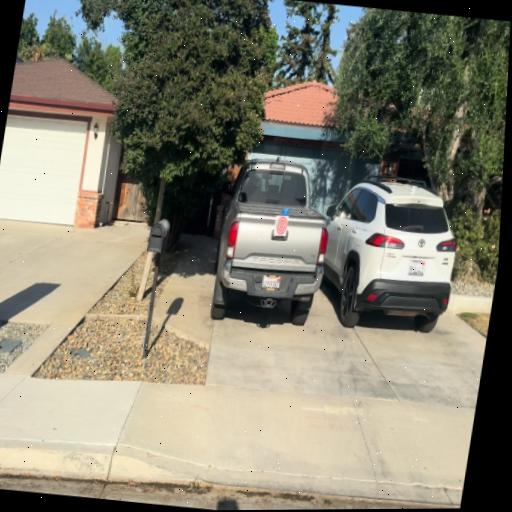bullseye: (275, 216, 289, 236)
